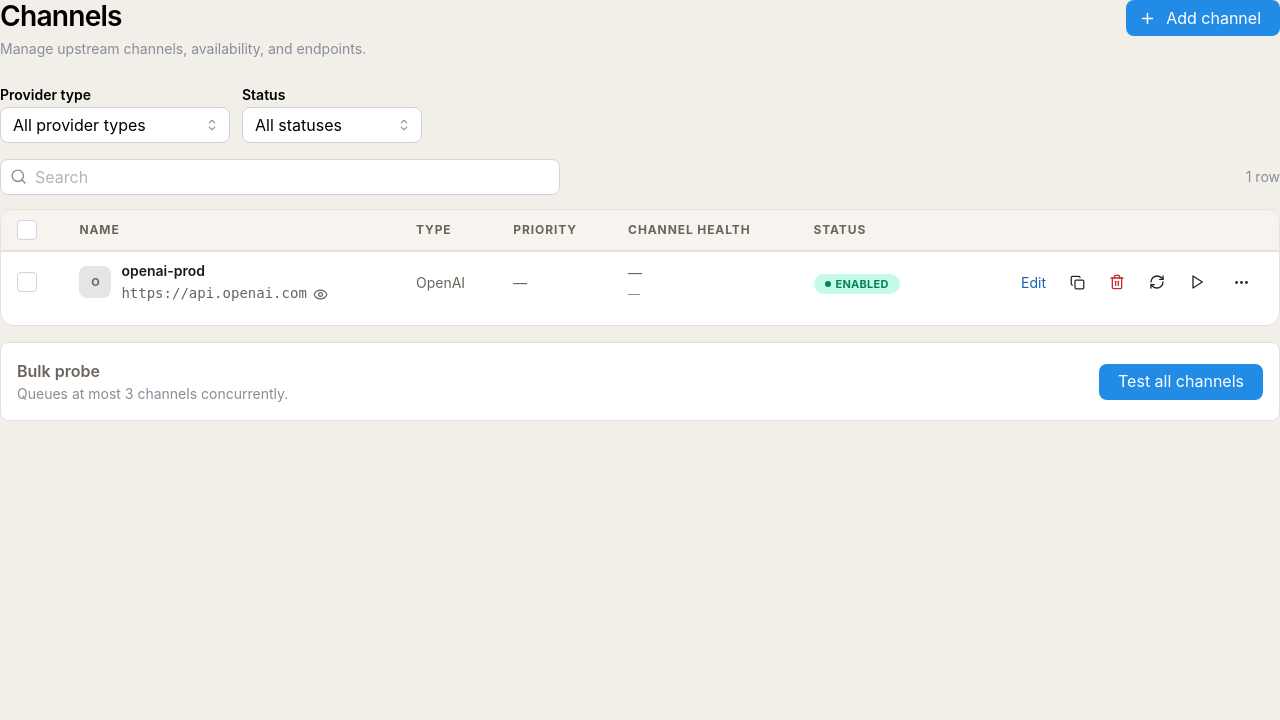
Test: destructive actions ask through the shared dialog › shows a refused delete inside the dialog instead of only in a toast
Click the button named "Delete openai-prod": x=1117, y=282 left=1099, top=264, right=1135, bottom=300
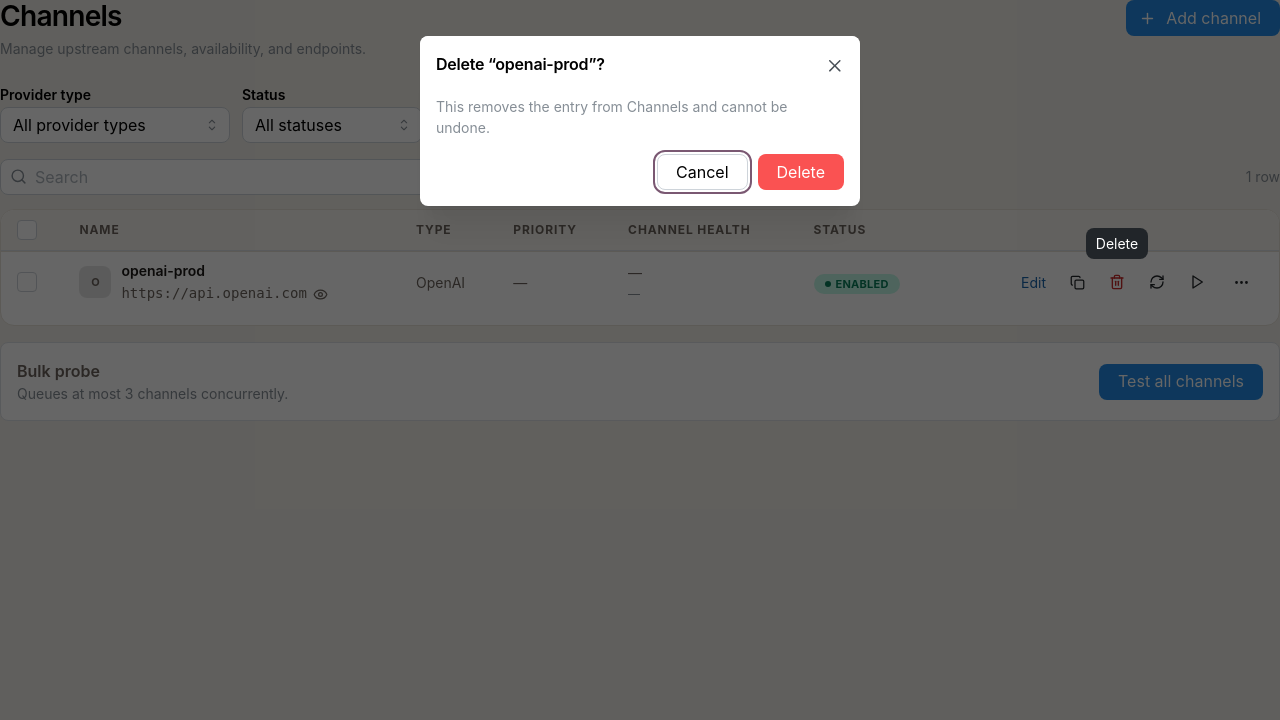
Click the button "Delete": x=801, y=172 left=758, top=154, right=844, bottom=190
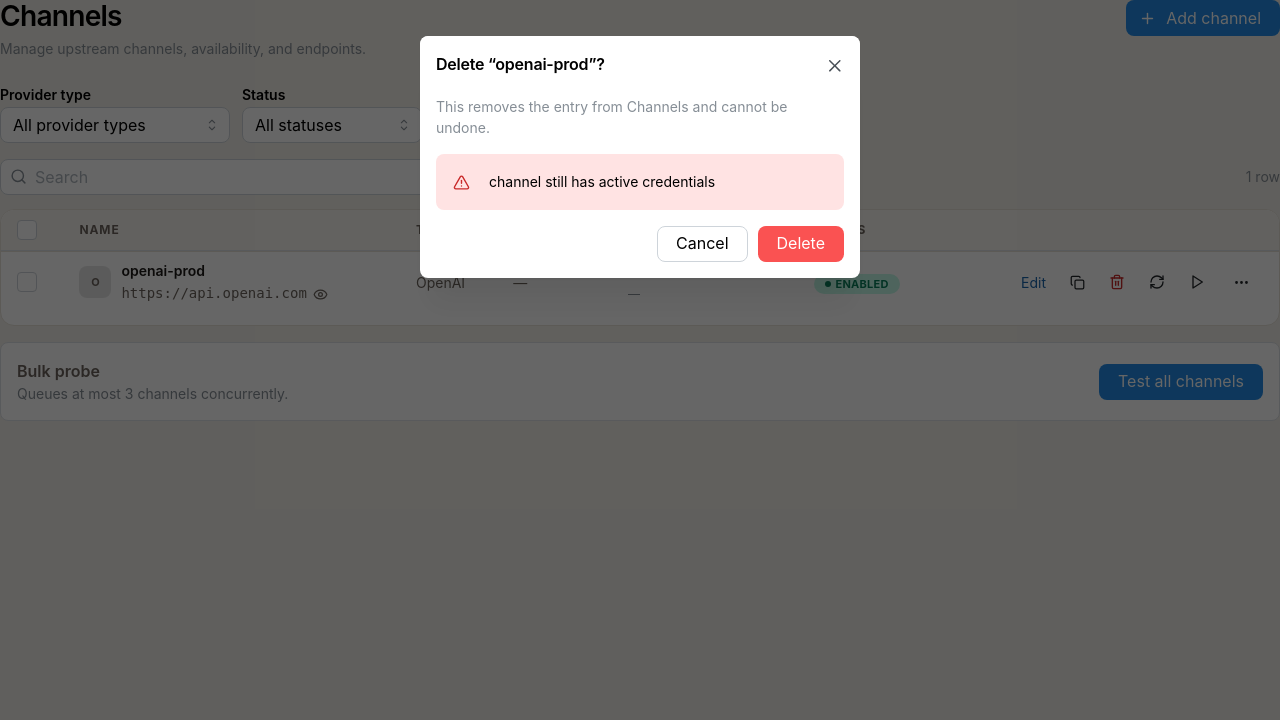
Result: the button "Delete" is enabled at left=758, top=226, right=844, bottom=262
Result: the message reads "channel still has active credentials" at left=489, top=173, right=715, bottom=190
